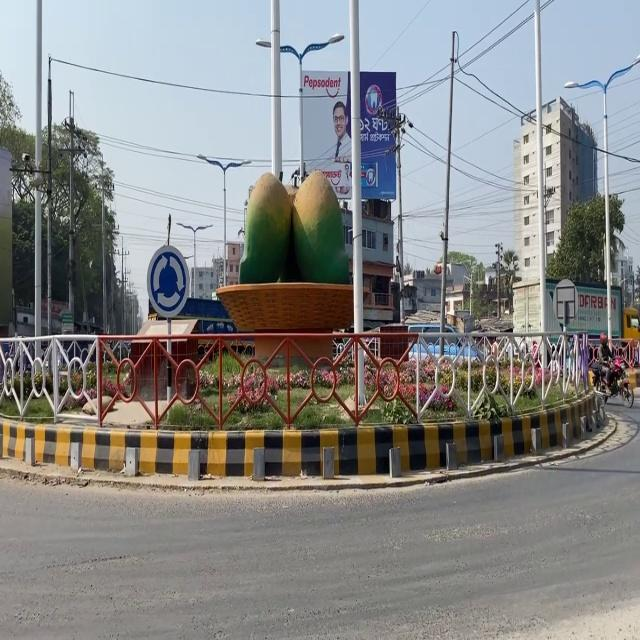Construction-barrier: (2, 391, 610, 485)
Fallen-tree: (588, 355, 634, 408)
Garbage: (215, 281, 355, 331)
Light-pole: (348, 0, 366, 415), (532, 0, 550, 373), (438, 31, 457, 356), (269, 0, 283, 181)
Rickshaw: (146, 244, 190, 317)
